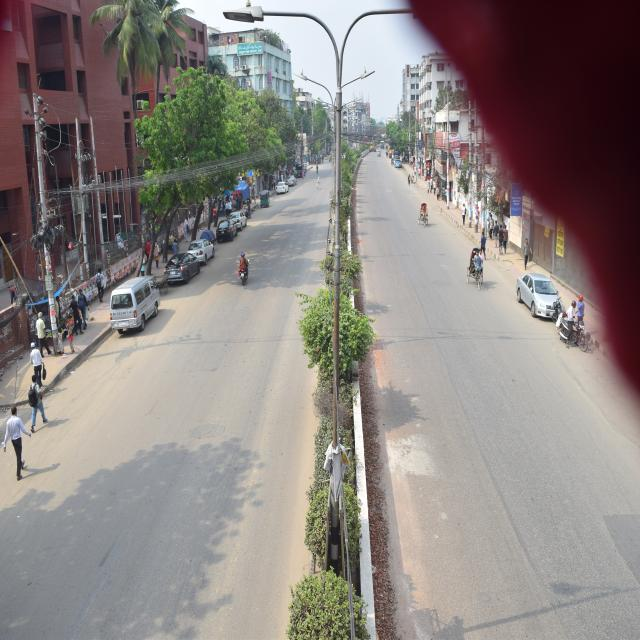car: (516, 262, 565, 328), (164, 248, 201, 290), (217, 212, 244, 252), (191, 232, 219, 266), (228, 201, 254, 229), (272, 177, 289, 197)
microbus: (103, 260, 164, 344)
motorbike: (558, 308, 582, 350), (232, 256, 253, 288)
